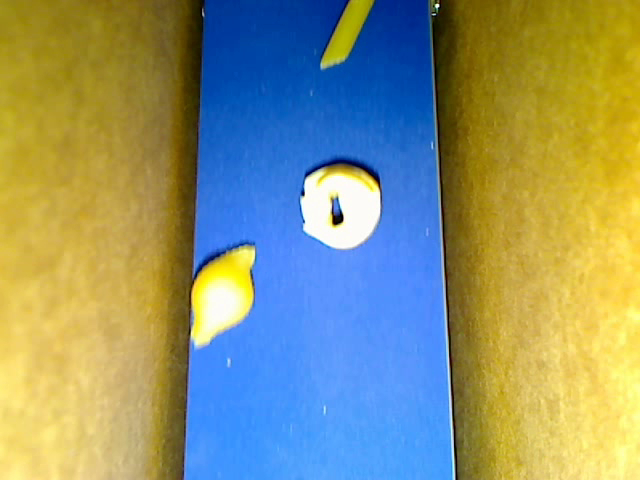penne: (320, 1, 373, 68)
shell: (190, 244, 255, 346)
tortellini: (300, 164, 381, 250)
